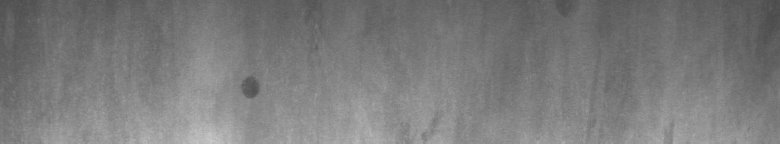fi: (240, 70, 264, 104)
